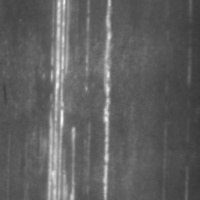scratches: (45, 1, 80, 199), (98, 1, 116, 199)
